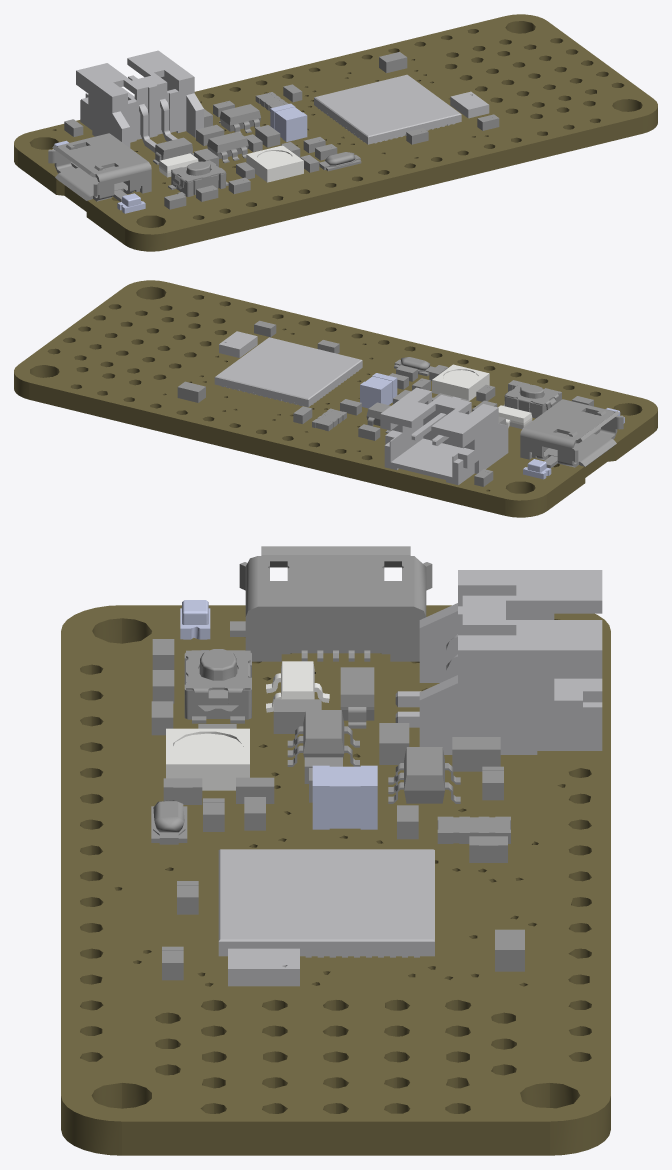
File: ada-3857.glb
The picture shows the model from 3 angles, top to bottom: view 1: azimuth 30°, elevation 25°; view 2: azimuth 150°, elevation 25°; view 3: azimuth 270°, elevation 25°; orthographic projection. The views are drawn at different scales.
Visible parts, largest first — view 1: 0.16666666666666666_0.16666666666666666_0.08333333333333333_, 0.5833333333333334_0.5833333333333334_0.5833333333333334_0.8, 0.3333333333333333_0.3333333333333333_0.3333333333333333_0, 0.9166666666666666_0.9166666666666666_0.9166666666666666_0.8, 0.5833333333333334_0.6666666666666666_0.8333333333333334_0; view 2: 0.16666666666666666_0.16666666666666666_0.08333333333333333_, 0.5833333333333334_0.5833333333333334_0.5833333333333334_0.8, 0.3333333333333333_0.3333333333333333_0.3333333333333333_0, 0.9166666666666666_0.9166666666666666_0.9166666666666666_0.8, 0.5833333333333334_0.6666666666666666_0.8333333333333334_0; view 3: 0.16666666666666666_0.16666666666666666_0.08333333333333333_, 0.5833333333333334_0.5833333333333334_0.5833333333333334_0.8, 0.3333333333333333_0.3333333333333333_0.3333333333333333_0, 0.9166666666666666_0.9166666666666666_0.9166666666666666_0.8, 0.5833333333333334_0.6666666666666666_0.8333333333333334_0.
Boxes of the visible parts, x1,y1,x2,y2 form: 0.16666666666666666_0.16666666666666666_0.08333333333333333_: [14, 14, 657, 251]; 0.5833333333333334_0.5833333333333334_0.5833333333333334_0.8: [76, 50, 489, 152]; 0.3333333333333333_0.3333333333333333_0.3333333333333333_0: [48, 52, 499, 209]; 0.9166666666666666_0.9166666666666666_0.9166666666666666_0.8: [159, 145, 303, 182]; 0.5833333333333334_0.6666666666666666_0.8333333333333334_0: [52, 103, 307, 213]; 0.16666666666666666_0.16666666666666666_0.08333333333333333_: [14, 280, 657, 517]; 0.5833333333333334_0.5833333333333334_0.5833333333333334_0.8: [214, 331, 508, 485]; 0.3333333333333333_0.3333333333333333_0.3333333333333333_0: [177, 320, 623, 486]; 0.9166666666666666_0.9166666666666666_0.9166666666666666_0.8: [432, 364, 532, 428]; 0.5833333333333334_0.6666666666666666_0.8333333333333334_0: [360, 373, 624, 479]; 0.16666666666666666_0.16666666666666666_0.08333333333333333_: [61, 605, 610, 1155]; 0.5833333333333334_0.5833333333333334_0.5833333333333334_0.8: [218, 570, 602, 986]; 0.3333333333333333_0.3333333333333333_0.3333333333333333_0: [151, 546, 524, 980]; 0.9166666666666666_0.9166666666666666_0.9166666666666666_0.8: [166, 661, 329, 790]; 0.5833333333333334_0.6666666666666666_0.8333333333333334_0: [180, 600, 377, 829].
Bounding box in the file's own units: 5.09 × 0.6369 × 2.29.
